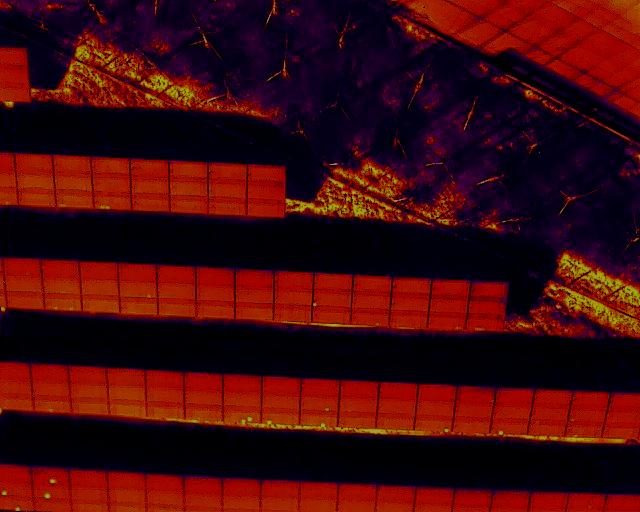Cell: (565, 493, 607, 512), (31, 466, 70, 484), (119, 279, 157, 296), (350, 308, 388, 325), (428, 312, 465, 328), (33, 396, 71, 411), (313, 290, 351, 305), (300, 395, 338, 410), (300, 411, 338, 426), (491, 419, 529, 434), (262, 407, 299, 422), (415, 416, 453, 430), (32, 485, 70, 498), (0, 482, 31, 497), (0, 497, 32, 511)
Cell-Multi: (44, 293, 81, 310), (93, 193, 130, 209), (223, 405, 260, 420)
No-Anomaly: (528, 491, 570, 511), (338, 481, 378, 501), (490, 490, 531, 509), (376, 485, 416, 504), (299, 480, 338, 499), (413, 487, 454, 505), (453, 489, 494, 507), (456, 385, 493, 404), (3, 258, 40, 277), (274, 271, 313, 289), (208, 163, 247, 181), (197, 301, 235, 319), (42, 259, 80, 277), (208, 198, 246, 216), (130, 160, 168, 178), (170, 162, 208, 180), (53, 156, 91, 174), (15, 154, 53, 172), (81, 261, 117, 280), (223, 477, 260, 495), (92, 158, 129, 176), (533, 389, 572, 406), (417, 383, 456, 400), (379, 382, 417, 399), (340, 381, 378, 398), (235, 301, 273, 318), (261, 478, 299, 495), (235, 269, 273, 286), (197, 267, 235, 284), (157, 265, 195, 282), (118, 263, 156, 280), (247, 165, 285, 182), (208, 181, 246, 198), (605, 494, 640, 512), (120, 297, 157, 314), (158, 299, 195, 316), (247, 200, 284, 217), (170, 179, 207, 196), (274, 288, 313, 304), (300, 379, 339, 395), (353, 275, 392, 291), (71, 397, 107, 414), (56, 190, 92, 207), (18, 189, 54, 206), (571, 391, 609, 407), (146, 370, 184, 386), (262, 376, 300, 392), (222, 374, 260, 390), (312, 306, 350, 322), (390, 311, 428, 327), (430, 296, 468, 312), (158, 283, 196, 299), (82, 296, 120, 312), (235, 285, 273, 301), (352, 292, 390, 308), (494, 387, 532, 403), (92, 176, 130, 192), (314, 274, 352, 290), (184, 475, 222, 491), (145, 473, 183, 489), (274, 304, 311, 320), (6, 291, 43, 307), (468, 297, 505, 313), (108, 472, 145, 488), (492, 404, 531, 419), (415, 401, 454, 416), (392, 278, 431, 293), (31, 365, 67, 381), (247, 183, 283, 199), (223, 390, 261, 405), (109, 400, 147, 415), (108, 384, 146, 399), (184, 372, 222, 387), (431, 279, 469, 294), (391, 294, 429, 309), (197, 285, 235, 300), (107, 368, 145, 383), (377, 399, 415, 414), (454, 403, 492, 418), (530, 406, 568, 421), (70, 485, 108, 500), (565, 422, 603, 437), (260, 496, 298, 511), (184, 492, 222, 507), (453, 417, 491, 432), (43, 278, 80, 293), (68, 367, 105, 382), (146, 386, 183, 401), (223, 494, 260, 509), (170, 197, 207, 212), (338, 412, 375, 427), (131, 180, 168, 195), (568, 407, 605, 422), (70, 468, 107, 483), (606, 408, 640, 424), (185, 388, 221, 403), (185, 404, 221, 419), (471, 281, 507, 296), (0, 363, 30, 381), (109, 488, 145, 503), (55, 175, 91, 190), (17, 173, 53, 188), (5, 276, 41, 291), (339, 398, 377, 412), (147, 402, 185, 416), (376, 414, 414, 428), (146, 489, 184, 503), (262, 393, 299, 407), (81, 280, 118, 294), (70, 382, 107, 396), (528, 420, 565, 434), (0, 464, 30, 481), (132, 195, 168, 209), (603, 423, 639, 437), (33, 381, 68, 395), (0, 395, 32, 409), (0, 381, 31, 394)
Unclassified: (466, 314, 502, 332)
